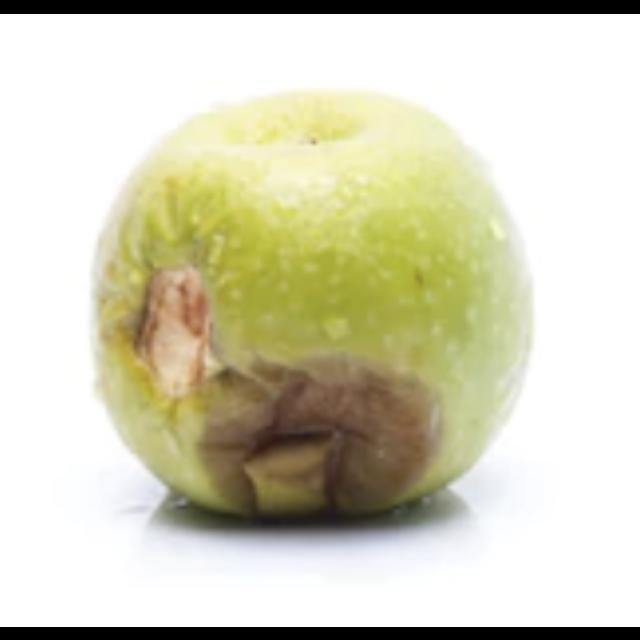Apel Tidak Segar: (84, 78, 540, 530)
